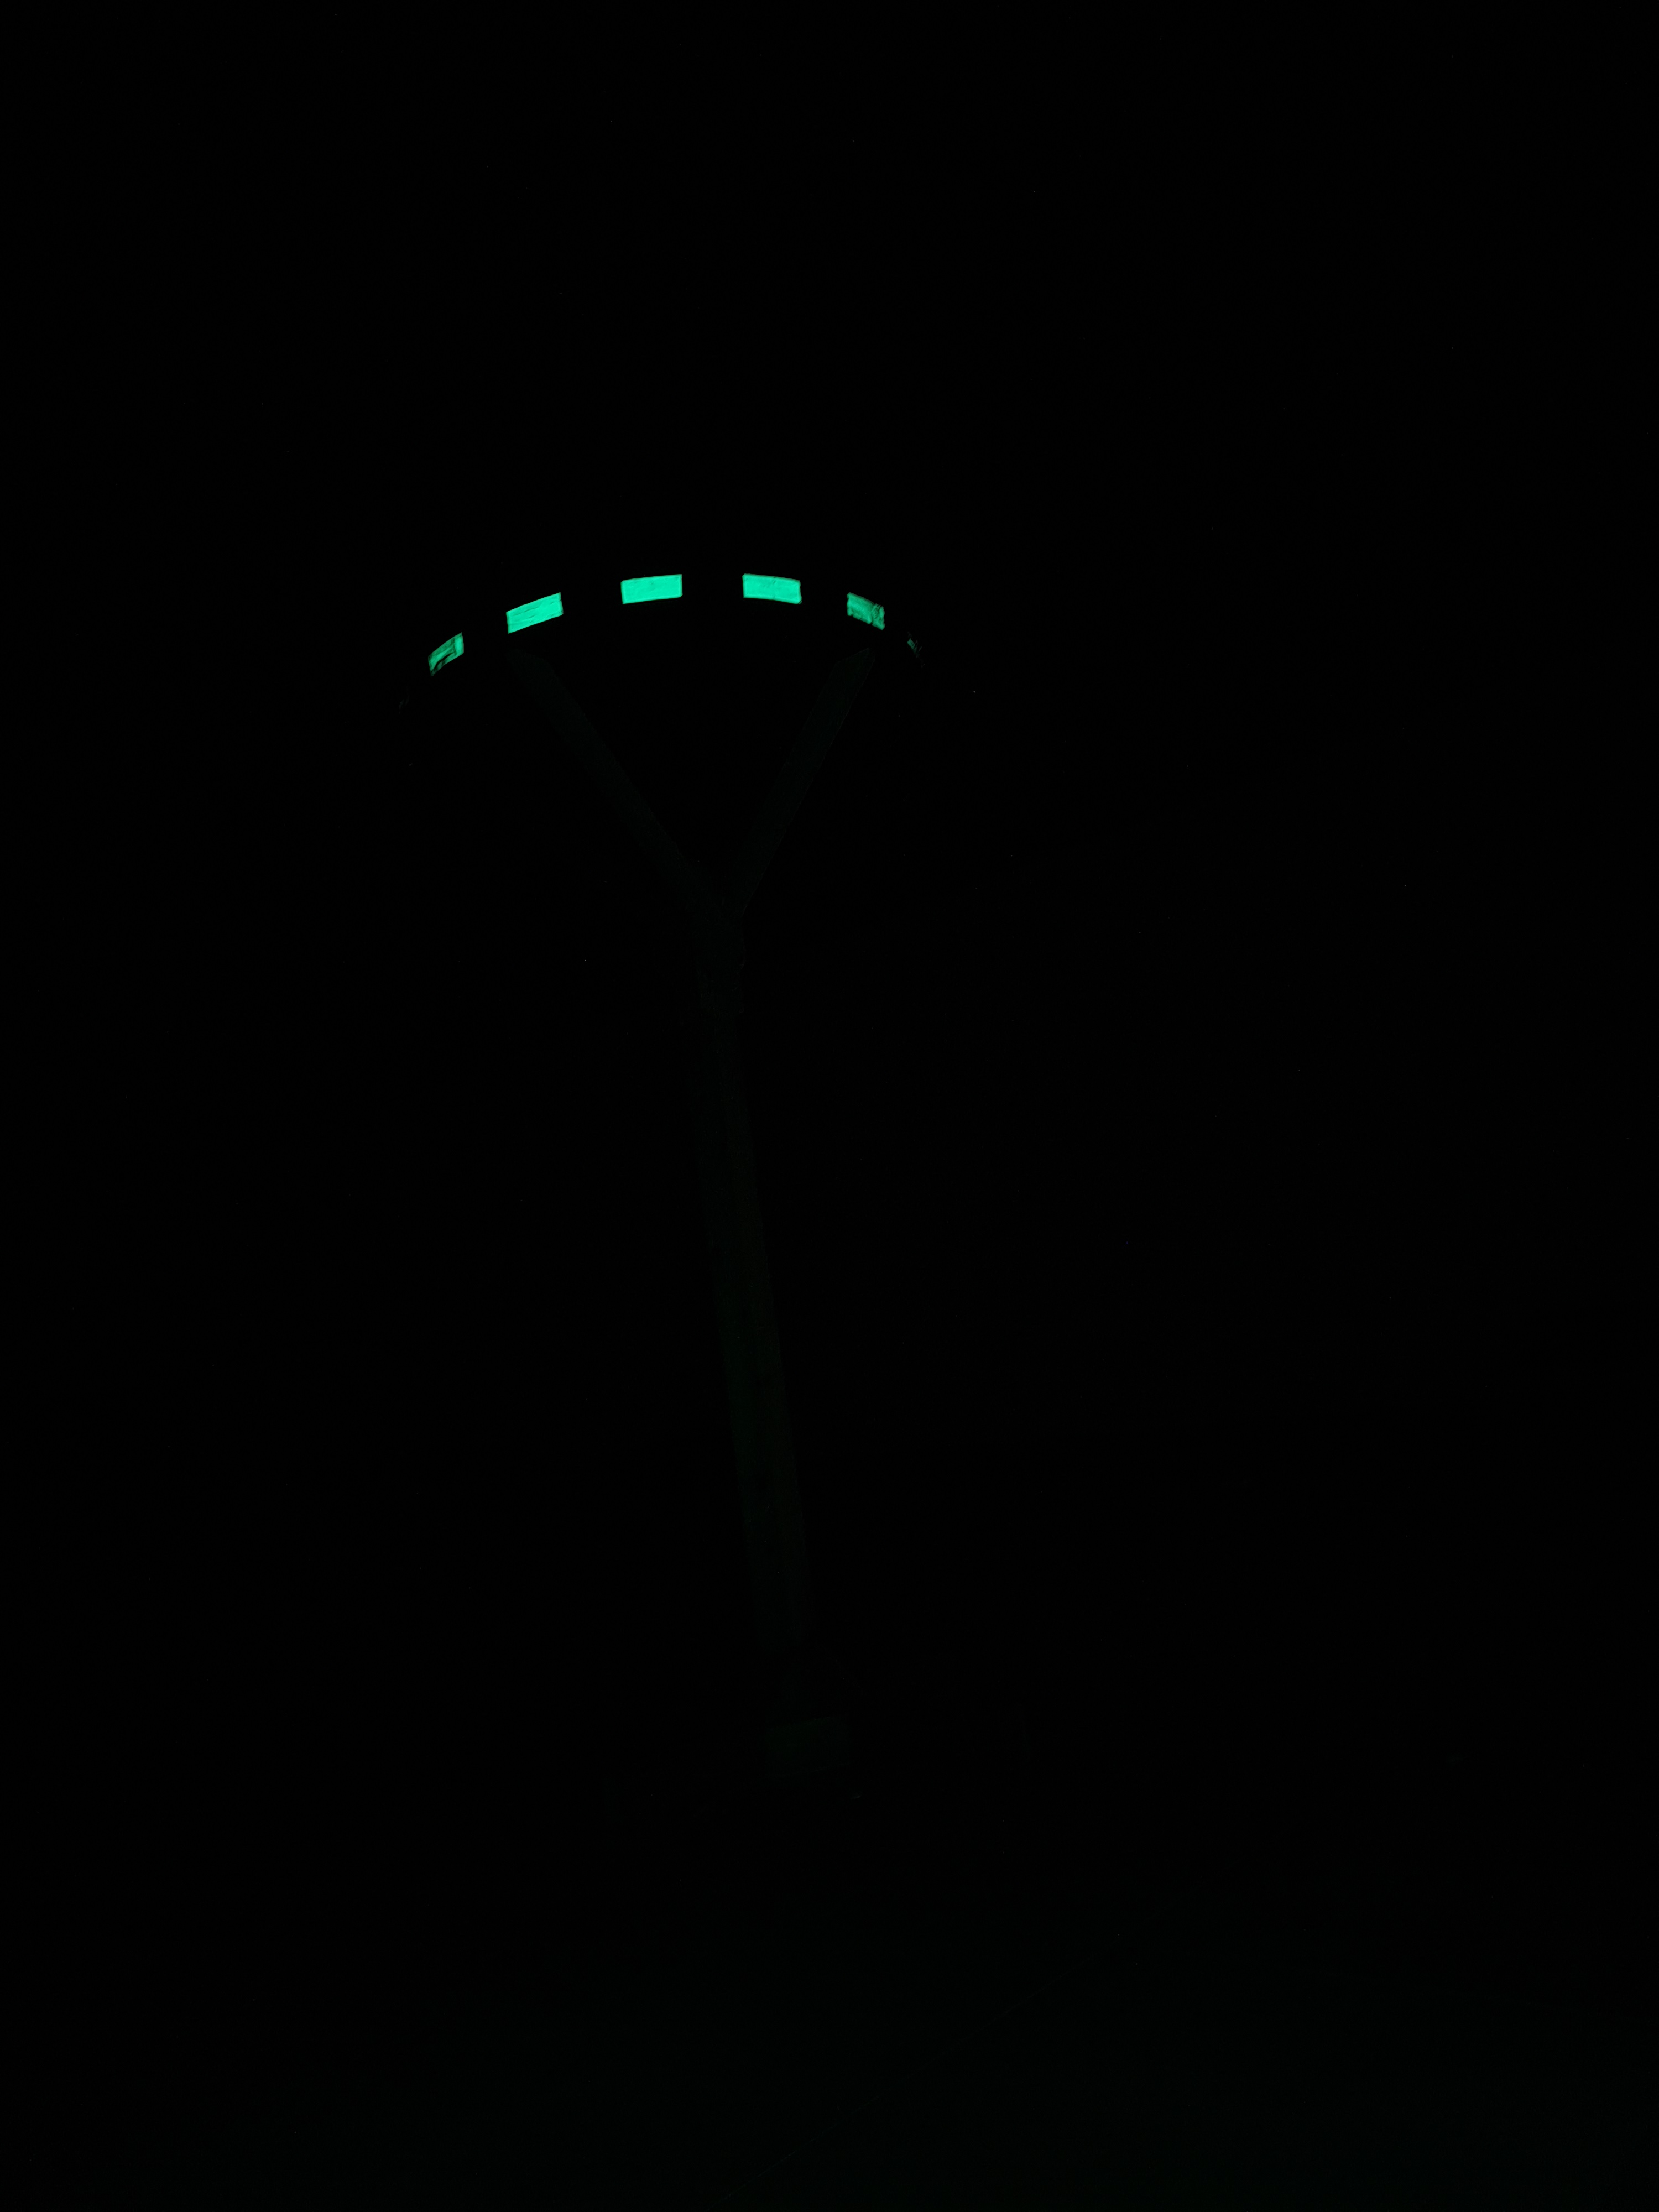hoop: (429, 568, 887, 674)
